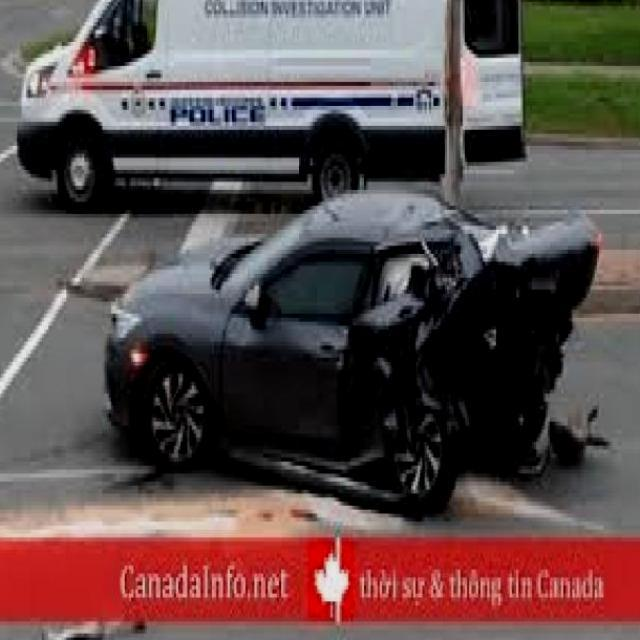accident: (309, 167, 614, 540)
